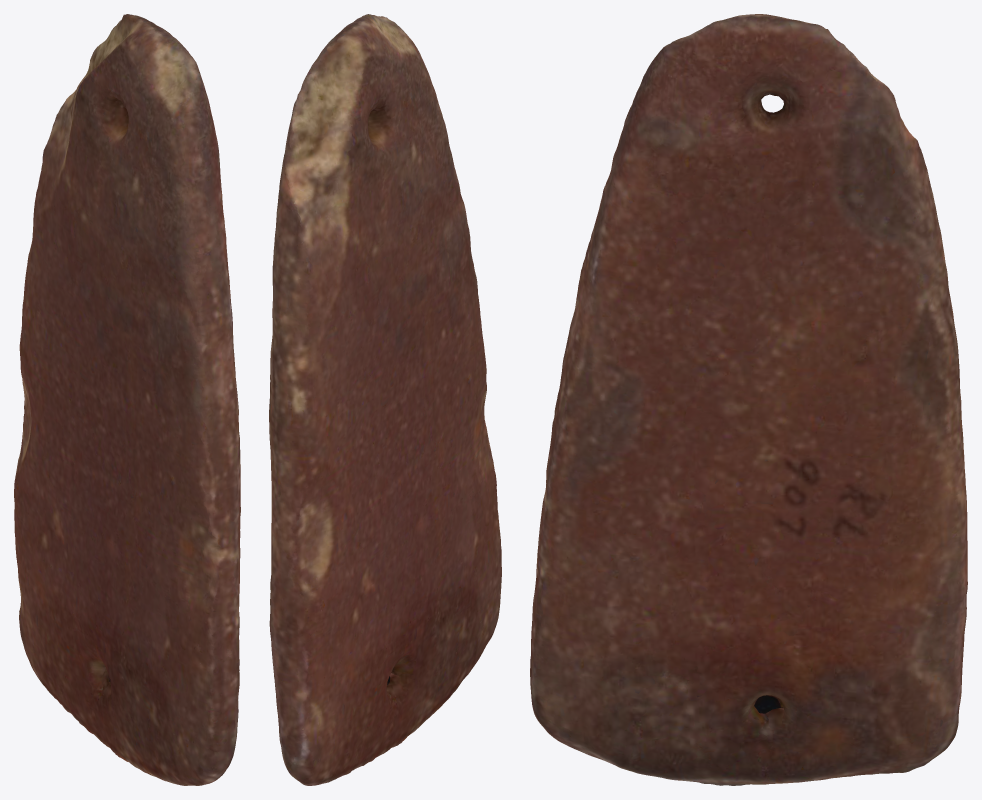
The picture shows the model from 3 angles, left to right: view 1: azimuth 30°, elevation 25°; view 2: azimuth 150°, elevation 25°; view 3: azimuth 270°, elevation 25°; orthographic projection. The views are drawn at different scales.
Bounding box in the file's own units: 0.0594 × 0.5027 × 0.2544.
Materials: 1 (1 with a texture image).
